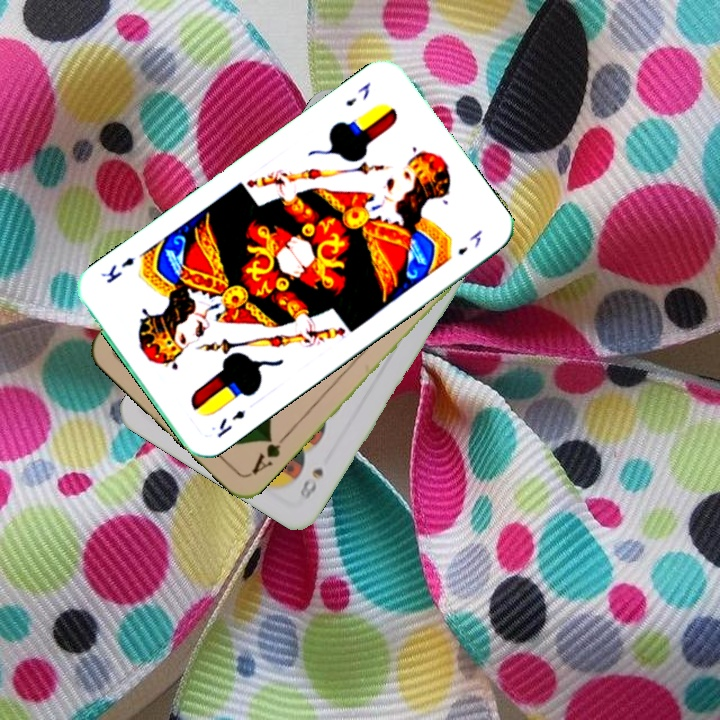EK: (213, 406, 248, 440), (341, 78, 374, 109)
GA: (247, 429, 291, 478)
S8: (295, 463, 326, 503)
